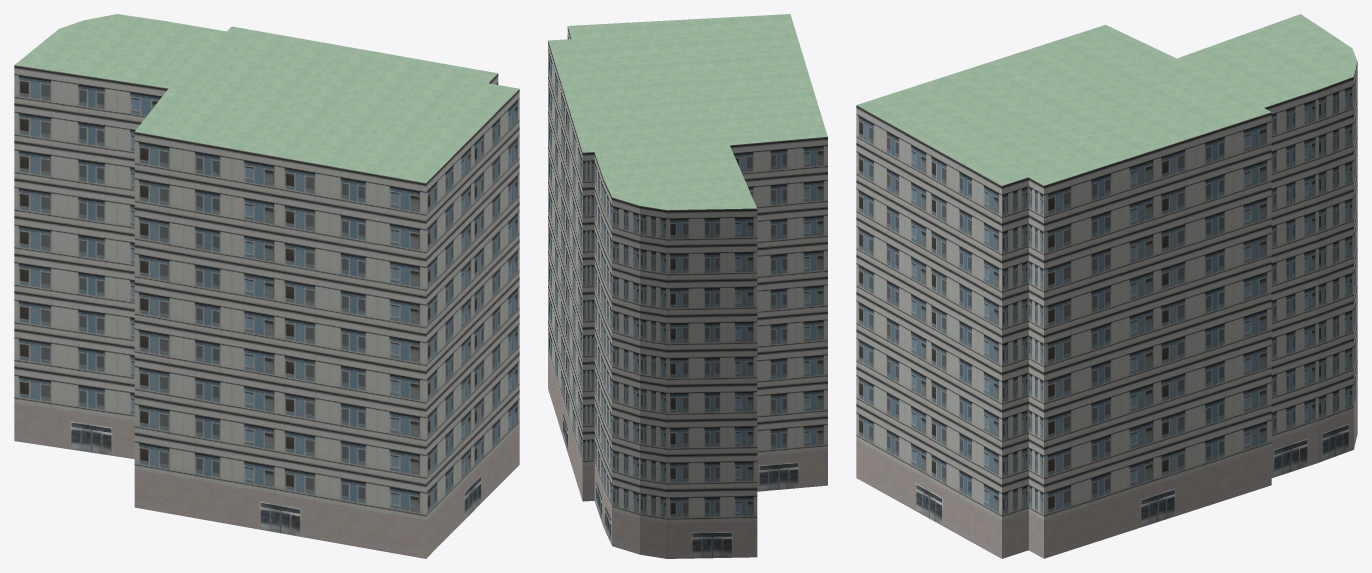
3 views of the same model, side by side, from view 1: azimuth 30°, elevation 25°; view 2: azimuth 150°, elevation 25°; view 3: azimuth 270°, elevation 25° (orthographic). The views are drawn at different scales.
Parts seen in each view (by area): view 1: BuildingMaster_2001194120474461647100000000_0, BuildingMaster_2001194120474461647100000000_1; view 2: BuildingMaster_2001194120474461647100000000_0, BuildingMaster_2001194120474461647100000000_1; view 3: BuildingMaster_2001194120474461647100000000_0, BuildingMaster_2001194120474461647100000000_1.
Boxes of the visible parts, <box> form: BuildingMaster_2001194120474461647100000000_0: <box>14,65,519,558</box>; BuildingMaster_2001194120474461647100000000_1: <box>14,14,519,182</box>; BuildingMaster_2001194120474461647100000000_0: <box>548,27,827,558</box>; BuildingMaster_2001194120474461647100000000_1: <box>548,14,827,210</box>; BuildingMaster_2001194120474461647100000000_0: <box>856,61,1357,558</box>; BuildingMaster_2001194120474461647100000000_1: <box>857,14,1357,185</box>.
Size of the model in its own units: 34.59 by 35 by 42.6.
Materials: 2 (2 with a texture image).
